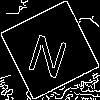N: (25, 25, 74, 79)
